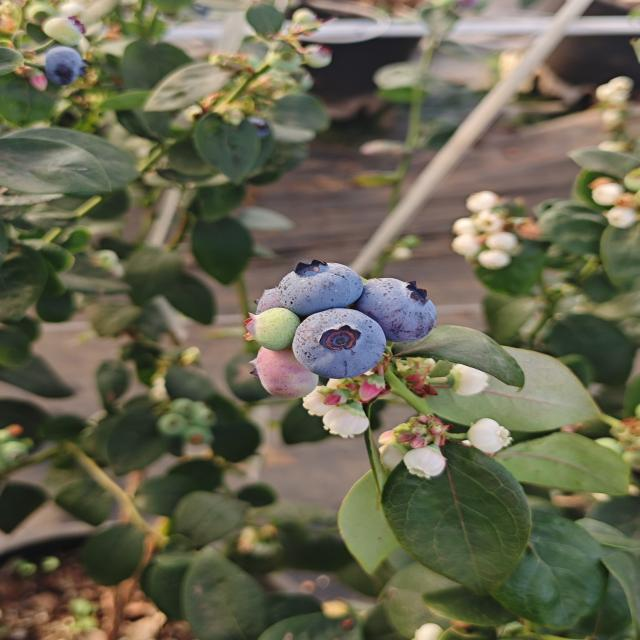ripe: (290, 306, 388, 380), (344, 277, 438, 339), (276, 258, 364, 316), (251, 280, 321, 325), (42, 43, 90, 93)
